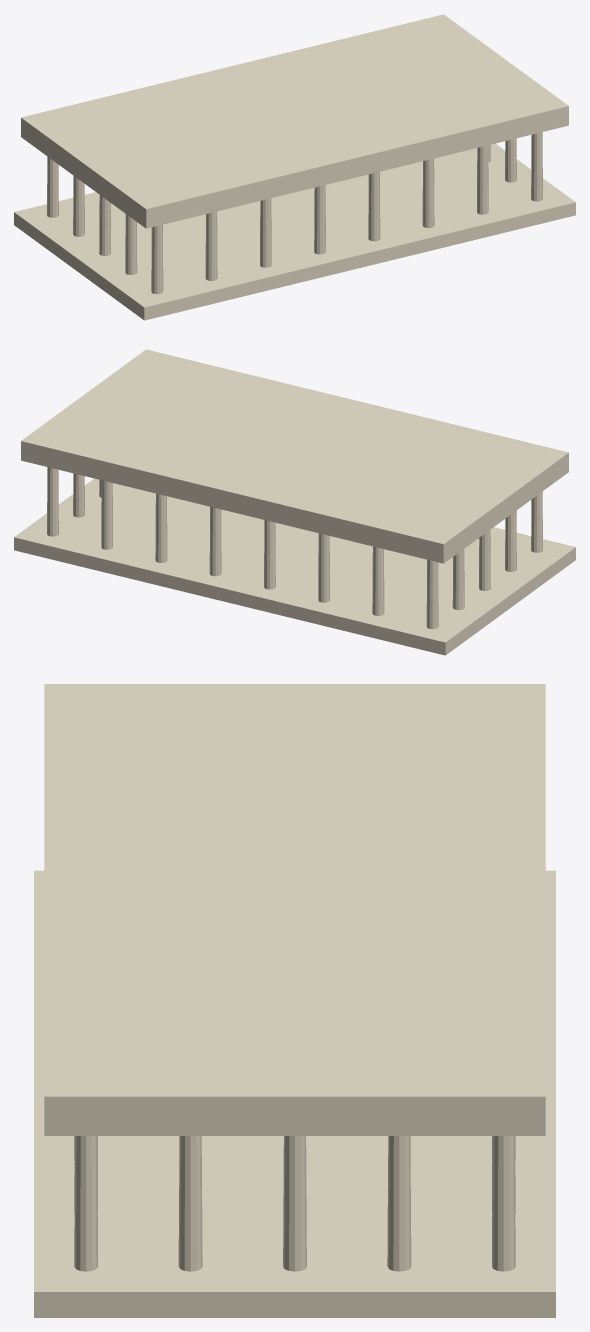
File: place-temple-of-artemis-ephesus.glb
3 renders of one model, top to bottom at view 1: azimuth 30°, elevation 25°; view 2: azimuth 150°, elevation 25°; view 3: azimuth 270°, elevation 25°, orthographic. The views are drawn at different scales.
Parts seen in each view (by area): view 1: place-temple-of-artemis-ephesus; view 2: place-temple-of-artemis-ephesus; view 3: place-temple-of-artemis-ephesus.
Boxes of the visible parts, bbox=[...] form: place-temple-of-artemis-ephesus: bbox=[14, 14, 575, 320]; place-temple-of-artemis-ephesus: bbox=[14, 349, 575, 655]; place-temple-of-artemis-ephesus: bbox=[34, 684, 555, 1317].
Bounding box in the file's own units: 105 × 25.21 × 55.
